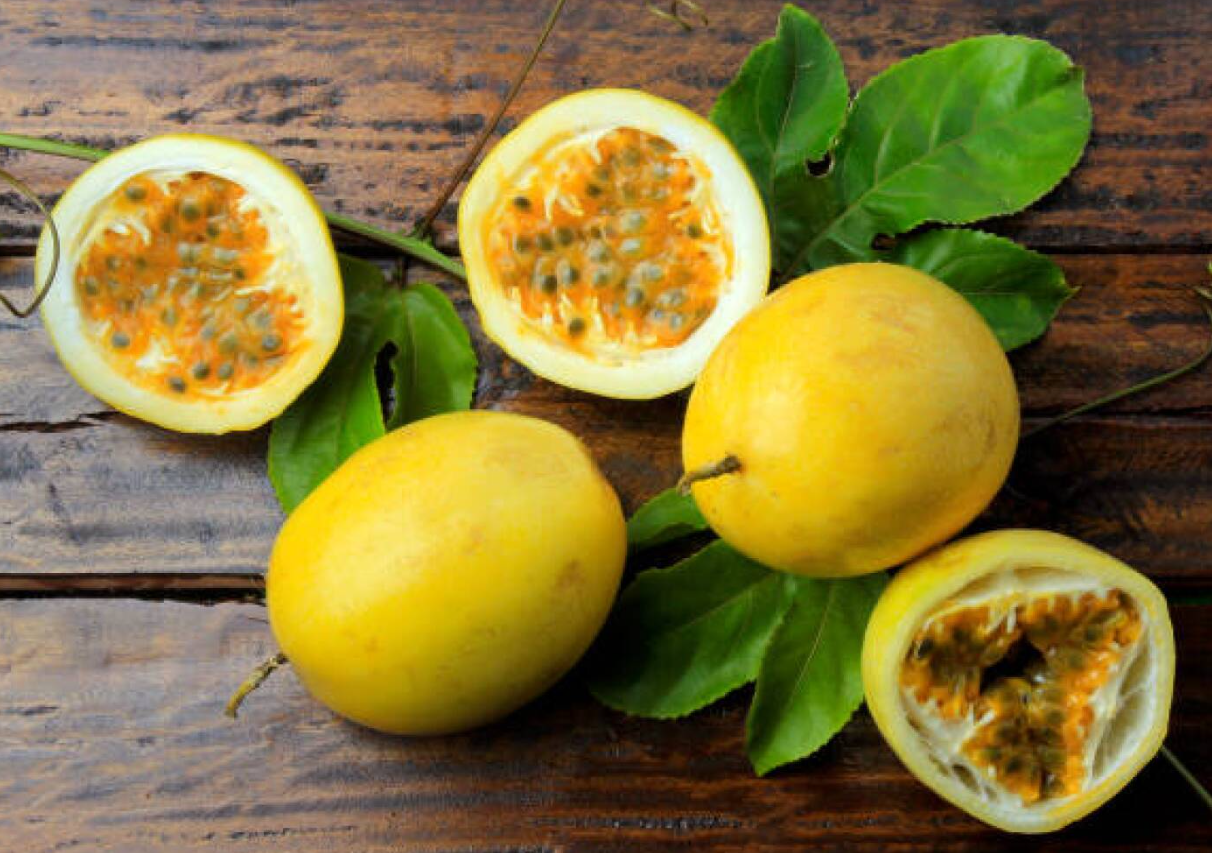maracuya: (221, 401, 634, 747), (666, 249, 1045, 591)
